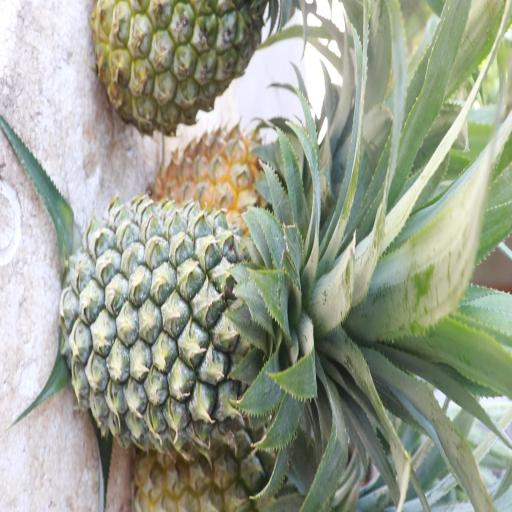------------------------------: (95, 0, 276, 130)
